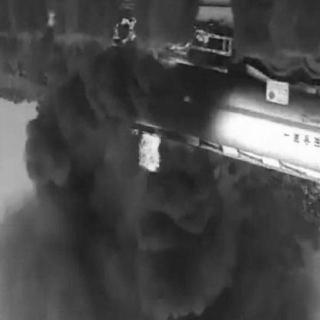Fire: (103, 7, 215, 77), (136, 125, 172, 181)
